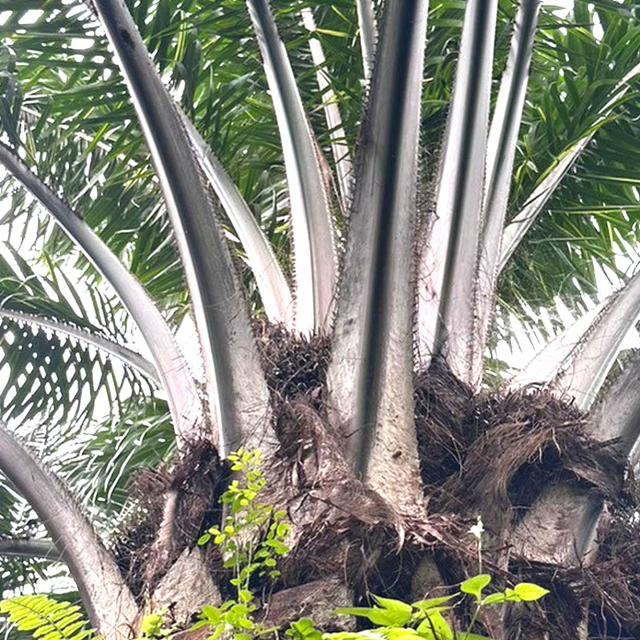unripe: (247, 319, 361, 463)
